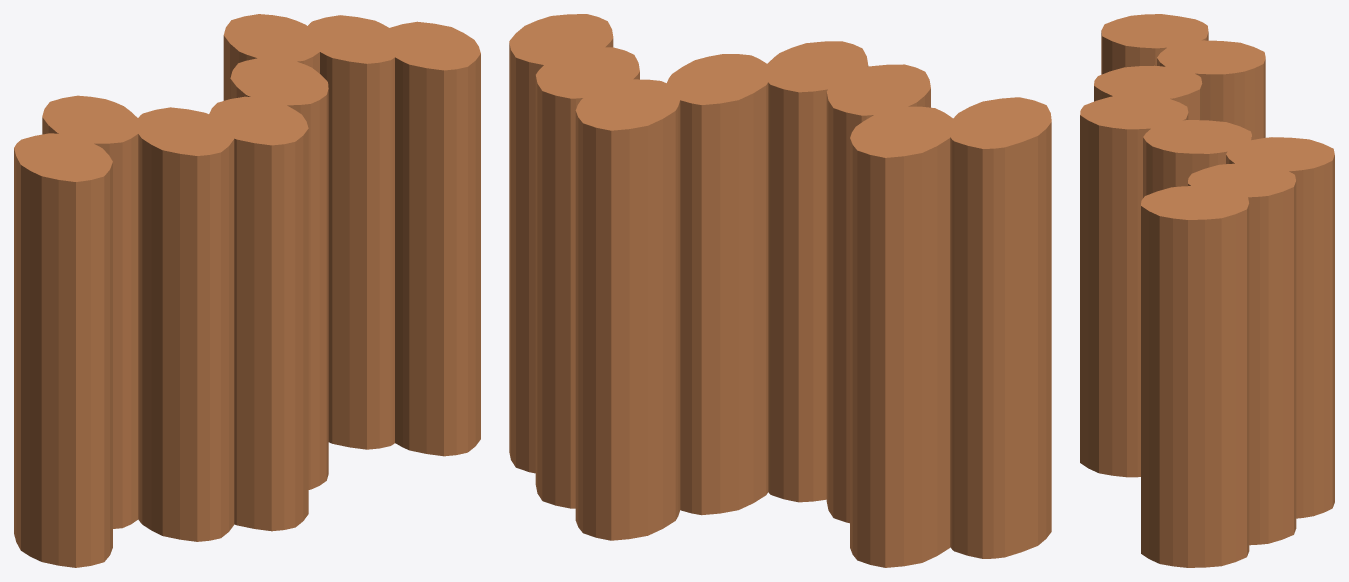
File: sample.enchu.glb
The picture shows the model from 3 angles, left to right: view 1: azimuth 30°, elevation 25°; view 2: azimuth 150°, elevation 25°; view 3: azimuth 270°, elevation 25°; orthographic projection. The views are drawn at different scales.
Parts seen in each view (by area): view 1: Mesh_Mesh_head_geo.001_lambert2SG.001; view 2: Mesh_Mesh_head_geo.001_lambert2SG.001; view 3: Mesh_Mesh_head_geo.001_lambert2SG.001.
Boxes of the visible parts, x1,y1,x2,y2 form: Mesh_Mesh_head_geo.001_lambert2SG.001: [14, 14, 480, 567]; Mesh_Mesh_head_geo.001_lambert2SG.001: [509, 14, 1051, 567]; Mesh_Mesh_head_geo.001_lambert2SG.001: [1080, 14, 1334, 567].
Bounding box in the file's own units: 0.0127 × 0.01 × 0.00664.
